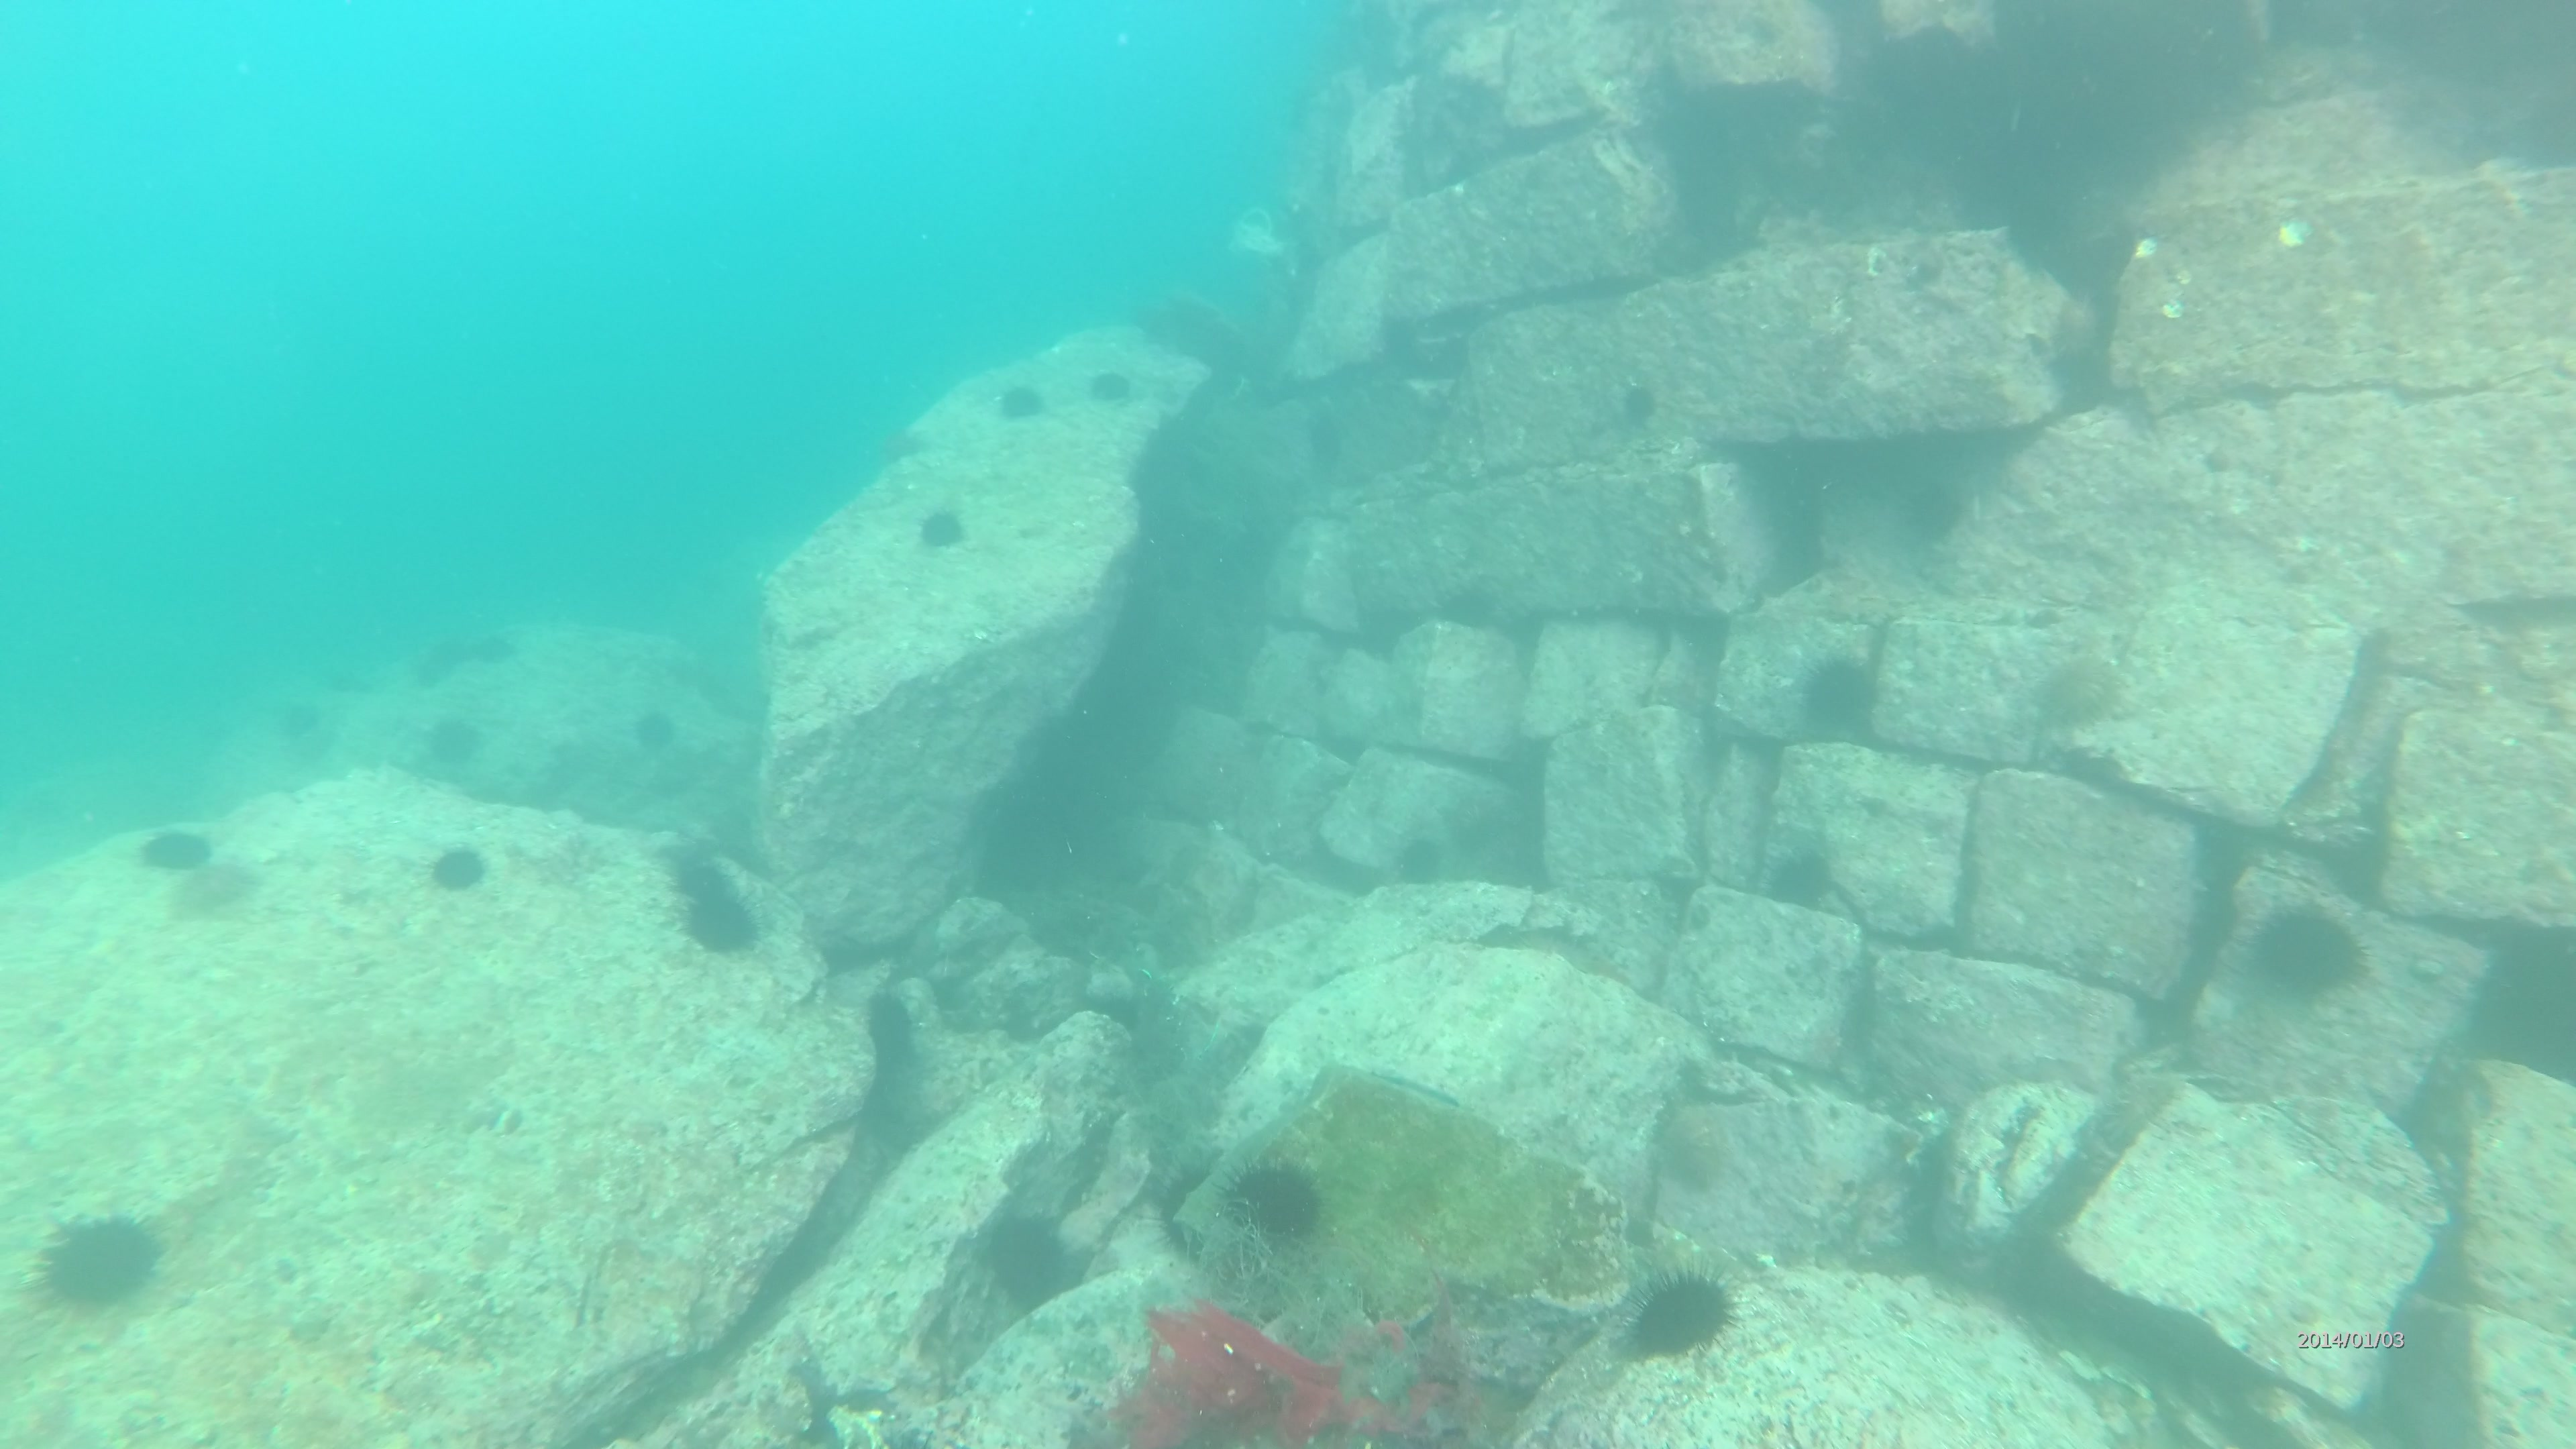echinus: (11, 1207, 205, 1338), (2243, 893, 2385, 1012), (1624, 1258, 1755, 1369), (971, 1205, 1067, 1316), (1214, 1161, 1320, 1249), (1799, 649, 1882, 747), (2038, 658, 2121, 738), (679, 890, 766, 962), (166, 855, 267, 916), (1897, 474, 1976, 552), (1762, 844, 1836, 918), (858, 987, 918, 1069), (1387, 837, 1454, 897), (133, 828, 221, 872), (262, 695, 329, 748), (409, 625, 469, 683), (1302, 402, 1348, 478), (426, 844, 492, 897), (426, 715, 479, 777), (628, 704, 685, 761), (1617, 377, 1668, 439), (663, 855, 729, 902), (911, 506, 968, 552), (467, 628, 525, 671), (994, 384, 1049, 426), (879, 425, 932, 460), (1085, 370, 1136, 405)
